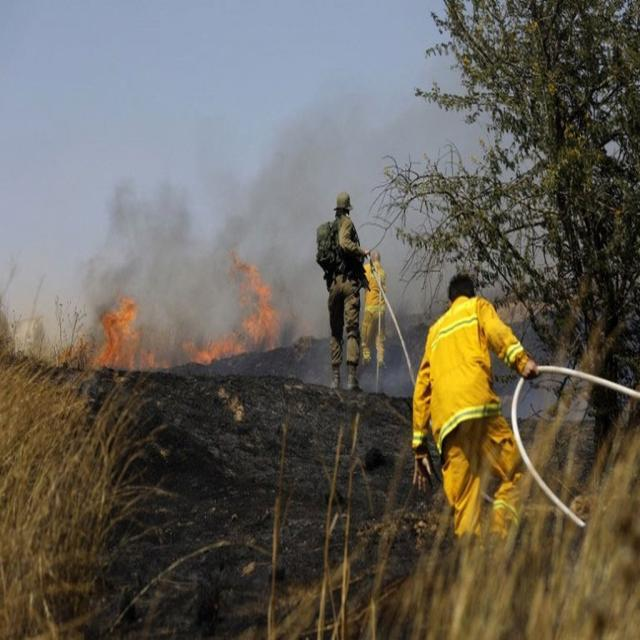Fire: (178, 249, 280, 367), (89, 296, 155, 374)
Smoke: (80, 93, 332, 390), (494, 370, 597, 423), (356, 359, 419, 397)
